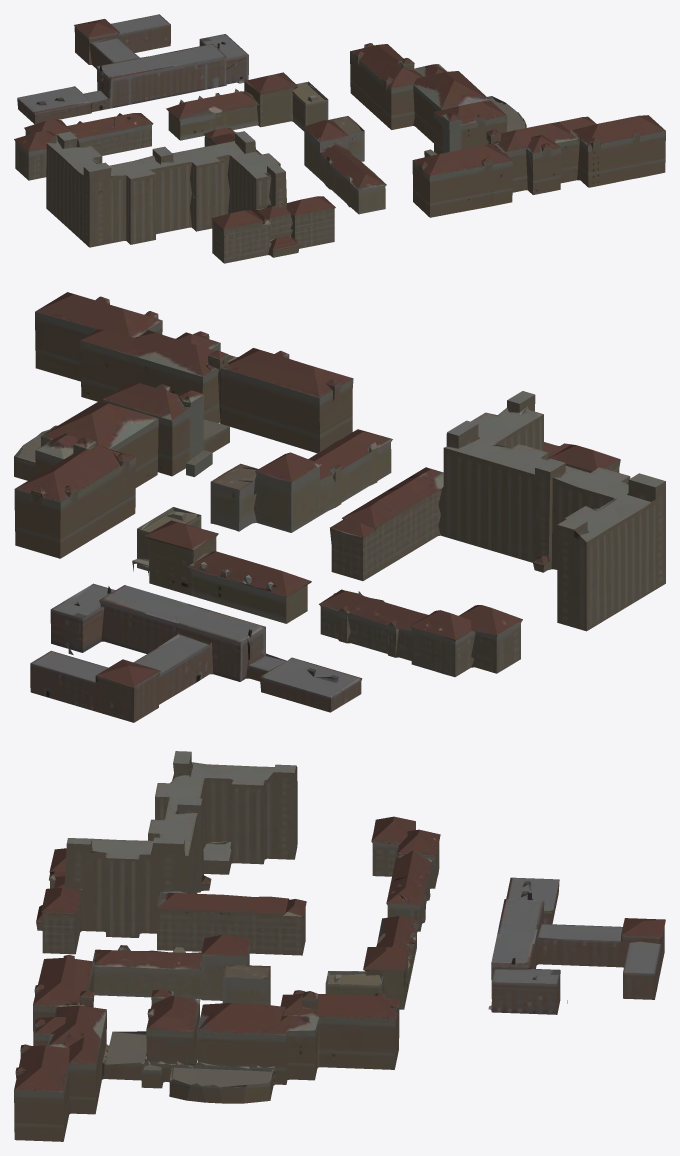
The model's file is t_1_1.coat.glb.
The picture shows the model from 3 angles, top to bottom: view 1: azimuth 30°, elevation 25°; view 2: azimuth 150°, elevation 25°; view 3: azimuth 270°, elevation 25°; orthographic projection. The views are drawn at different scales.
Parts seen in each view (by area): view 1: far; view 2: far; view 3: far.
Part boxes in pixels (left/top/right/bottom): far: left=14, top=14, right=665, bottom=263; far: left=14, top=292, right=665, bottom=722; far: left=14, top=751, right=665, bottom=1141.
Bounding box in the file's own units: 259 × 36.83 × 238.
1 material, 1 textured.
